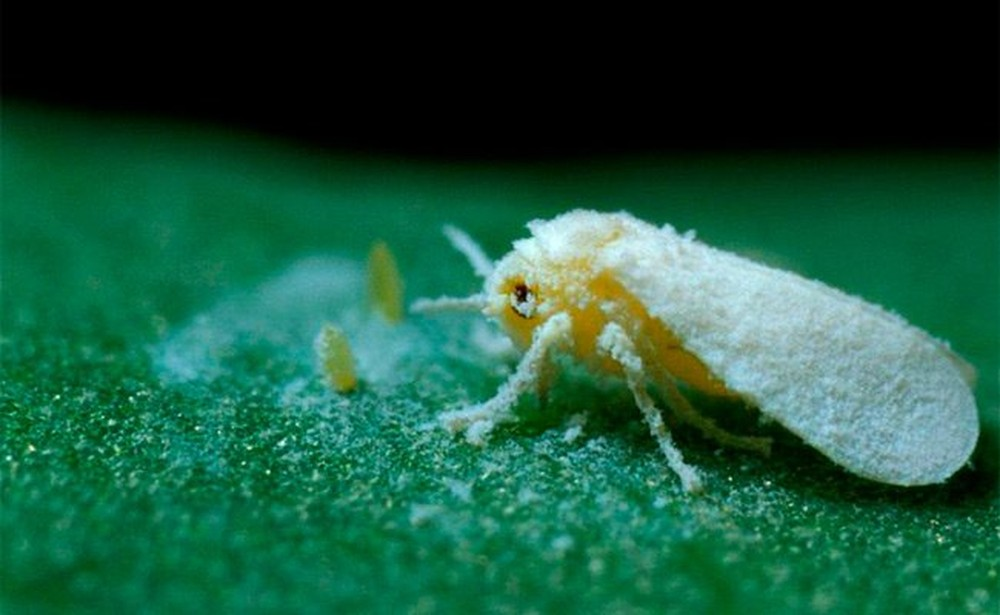Mosca Blanca: (421, 180, 991, 545)
